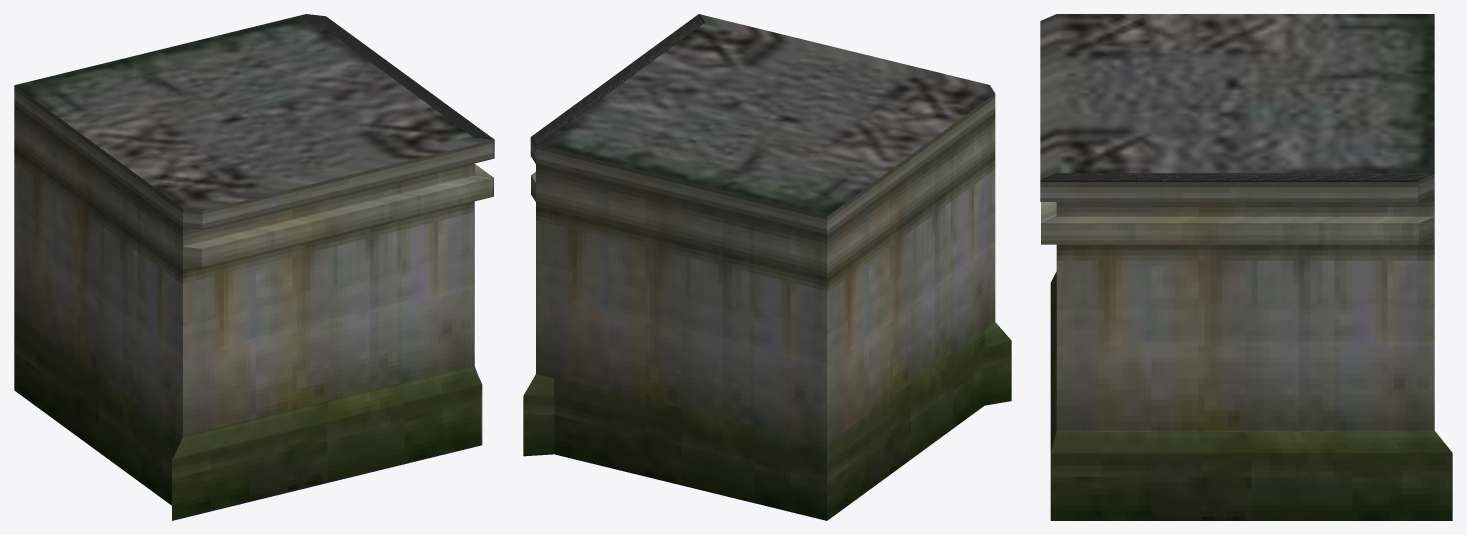
Rendered from EscapeToSurface.fbx.
The picture shows the model from 3 angles, left to right: view 1: azimuth 30°, elevation 25°; view 2: azimuth 150°, elevation 25°; view 3: azimuth 270°, elevation 25°; orthographic projection. The views are drawn at different scales.
Visible parts, largest first — view 1: Cube; view 2: Cube; view 3: Cube.
Boxes of the visible parts, left/top/right/bottom form: Cube: left=14, top=14, right=494, bottom=520; Cube: left=523, top=14, right=1011, bottom=520; Cube: left=1040, top=14, right=1452, bottom=520.
Size of the model in its own units: 2180 by 2012 by 2180.
1 material, 1 textured.
